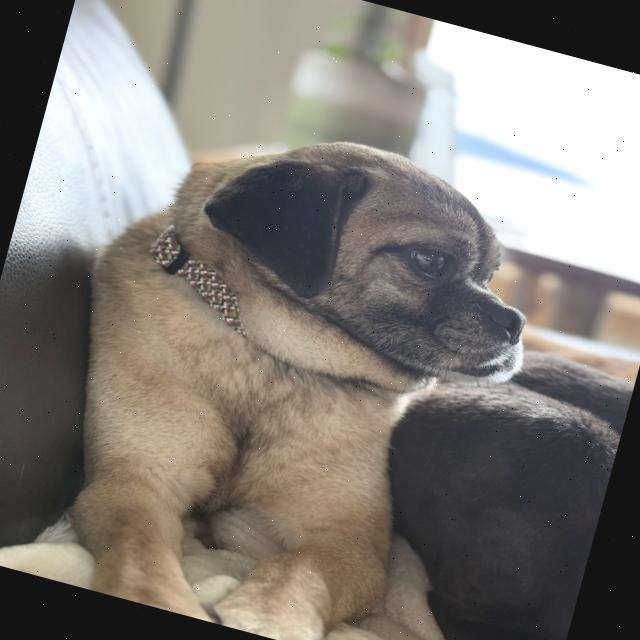pug_dog: (96, 74, 584, 444)
